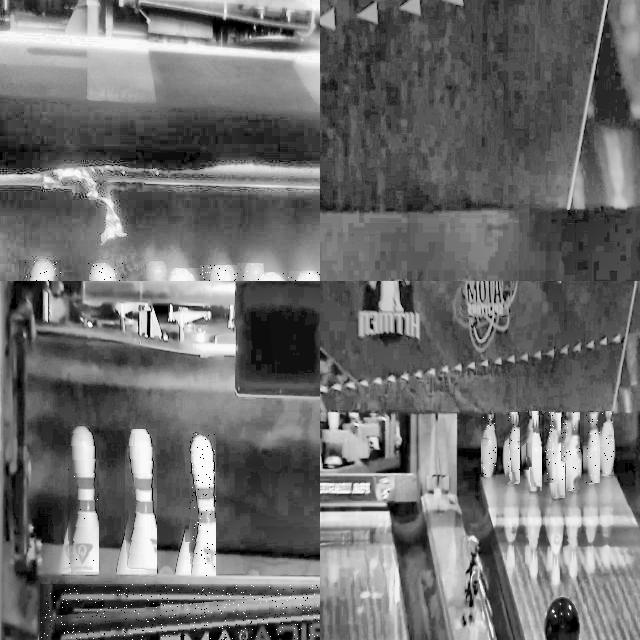bowling-ball: (545, 598, 579, 640)
bowling-pins: (68, 427, 99, 573), (125, 430, 157, 571), (188, 434, 215, 576), (529, 411, 542, 488), (568, 413, 580, 489), (586, 413, 599, 483), (482, 413, 495, 477), (554, 414, 564, 497), (601, 411, 613, 474), (508, 413, 519, 481), (545, 412, 553, 480), (561, 413, 570, 461), (525, 413, 531, 467)
sweep board: (41, 592, 320, 640)
